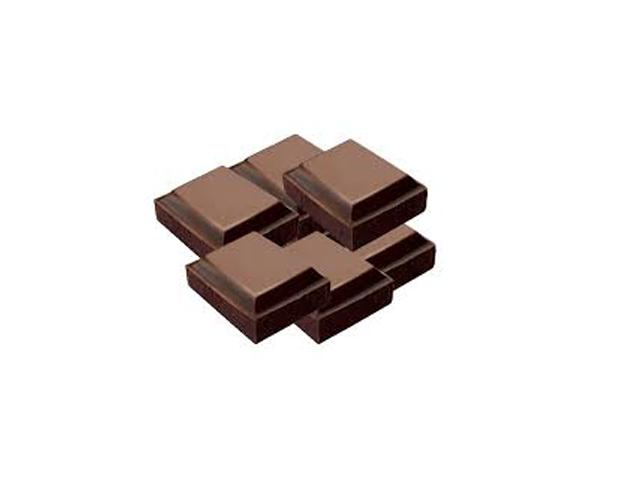chocolate: (156, 125, 443, 334)
